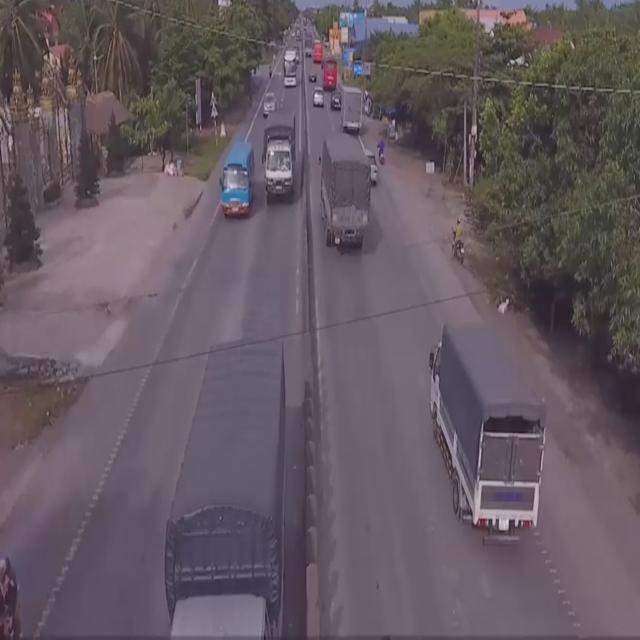bus: (220, 142, 255, 218), (282, 47, 298, 90), (322, 54, 339, 89)
car: (365, 153, 380, 188), (310, 86, 326, 111), (264, 88, 278, 114), (329, 89, 343, 114)
motorbike: (0, 552, 24, 639), (449, 216, 466, 270)
truck: (164, 331, 287, 640), (434, 332, 568, 584), (319, 138, 370, 252), (264, 111, 296, 204), (338, 88, 366, 138)
